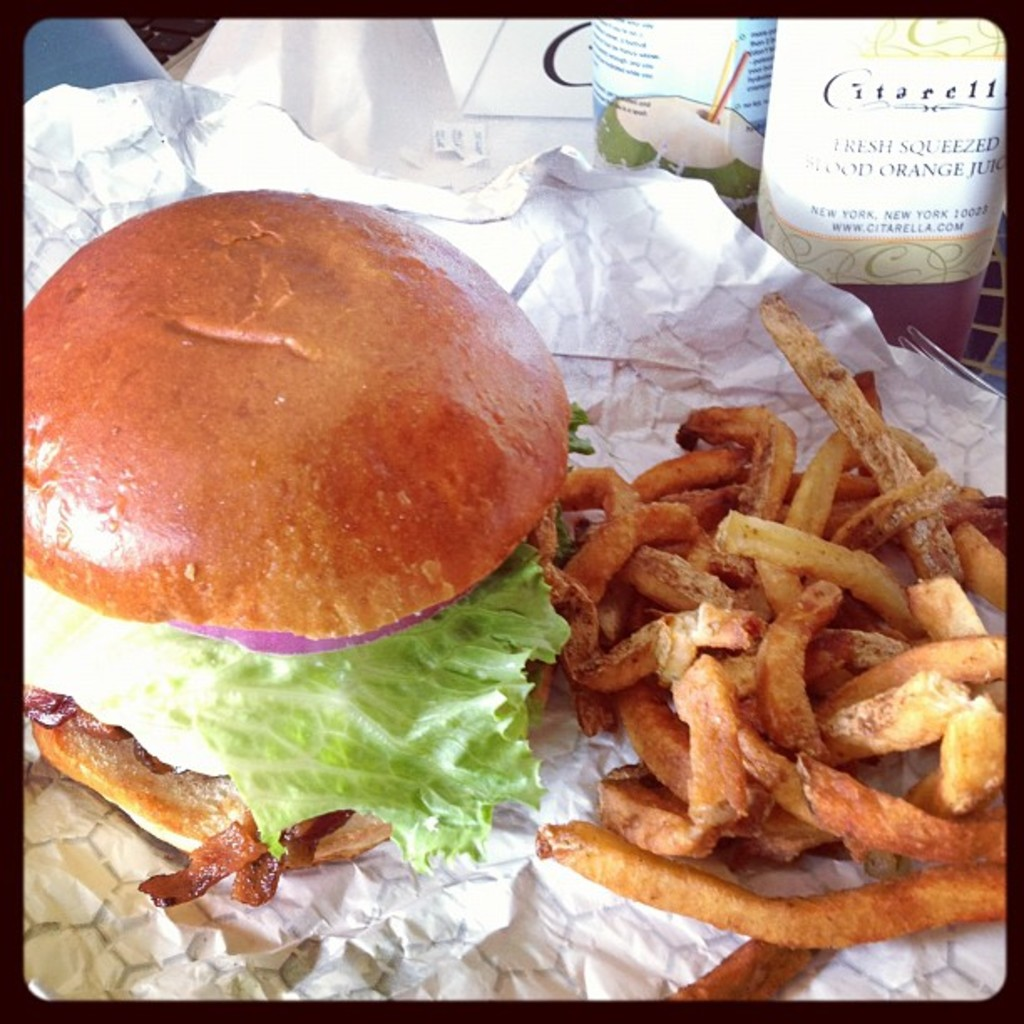French fries: (498, 337, 1018, 948)
